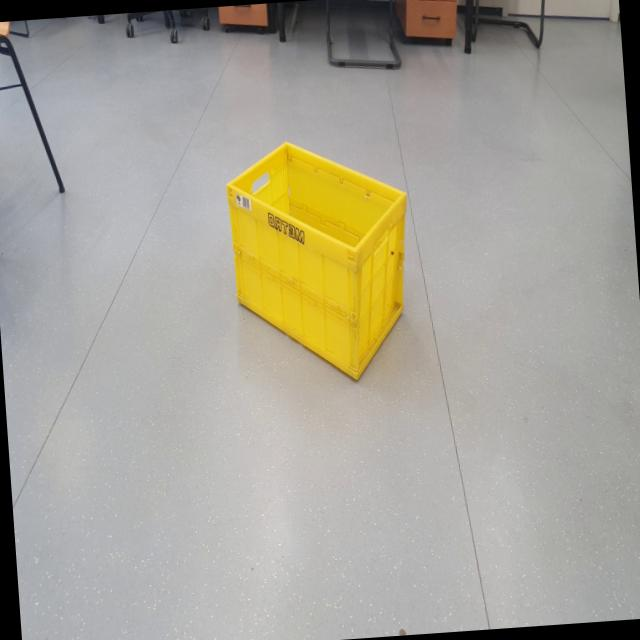box: (214, 128, 423, 398)
